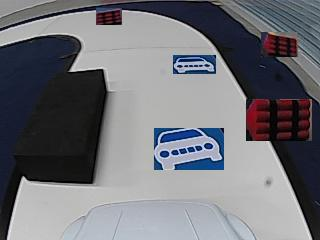block: (19, 70, 108, 183)
